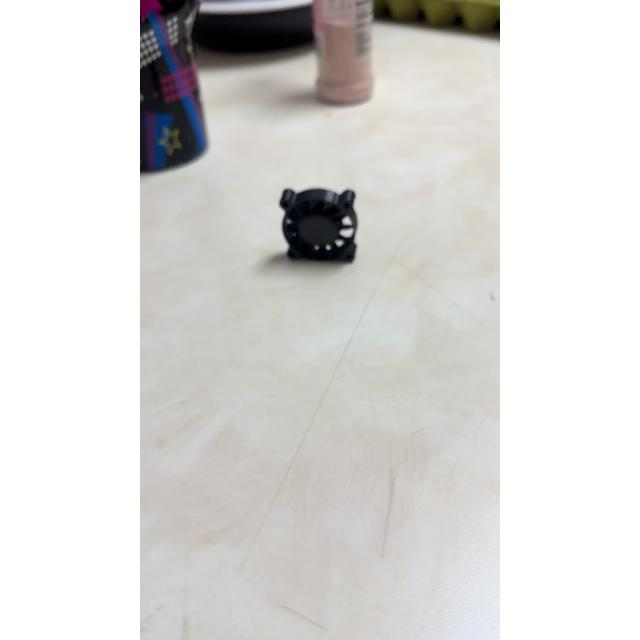Pieza_4: (272, 186, 378, 278)
